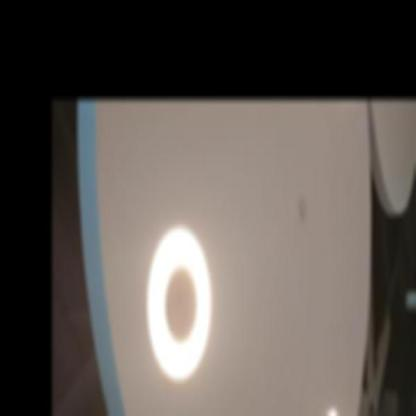light_on: (136, 207, 218, 412), (312, 389, 349, 415)
